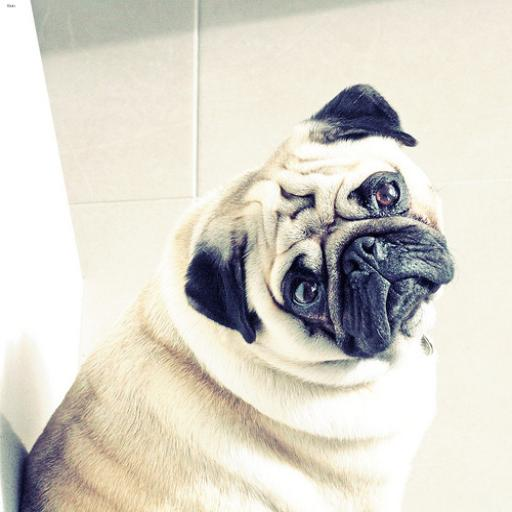dog_face: (184, 69, 463, 370)
